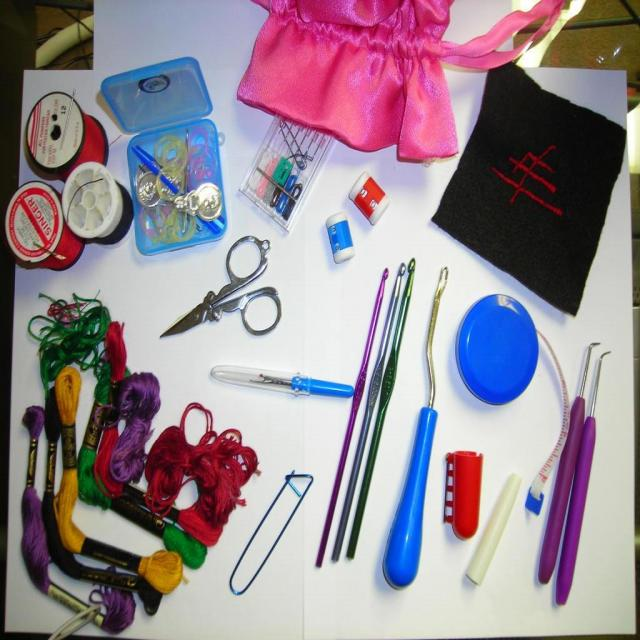scissor: (159, 232, 283, 339)
